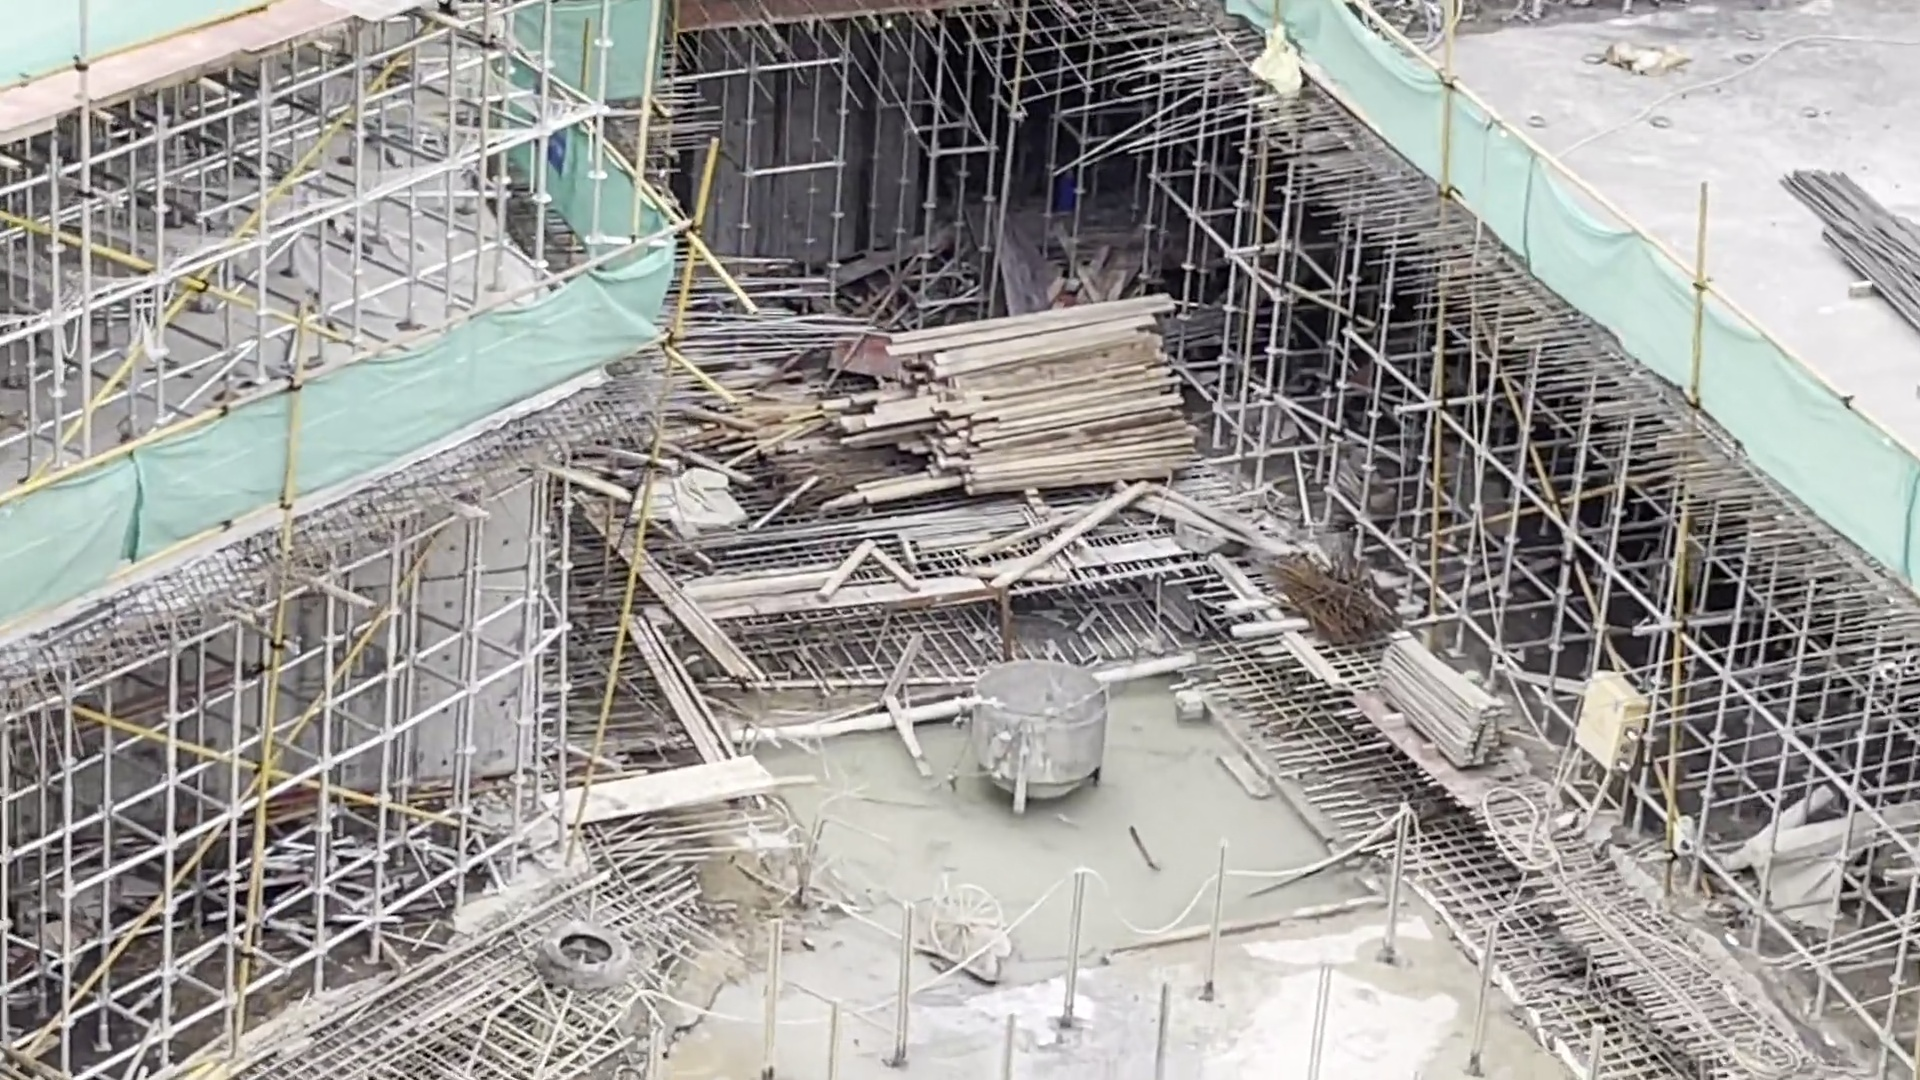wood: (877, 286, 1192, 501)
